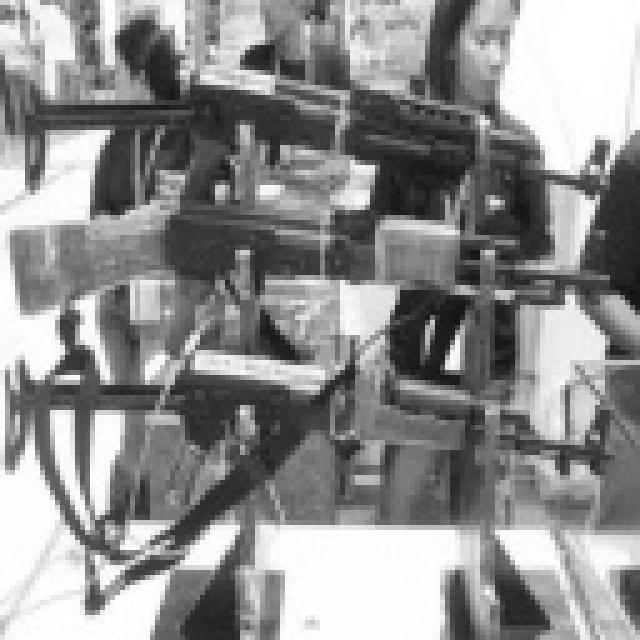Rifle: (0, 302, 640, 598), (0, 0, 640, 245), (0, 161, 640, 390)
